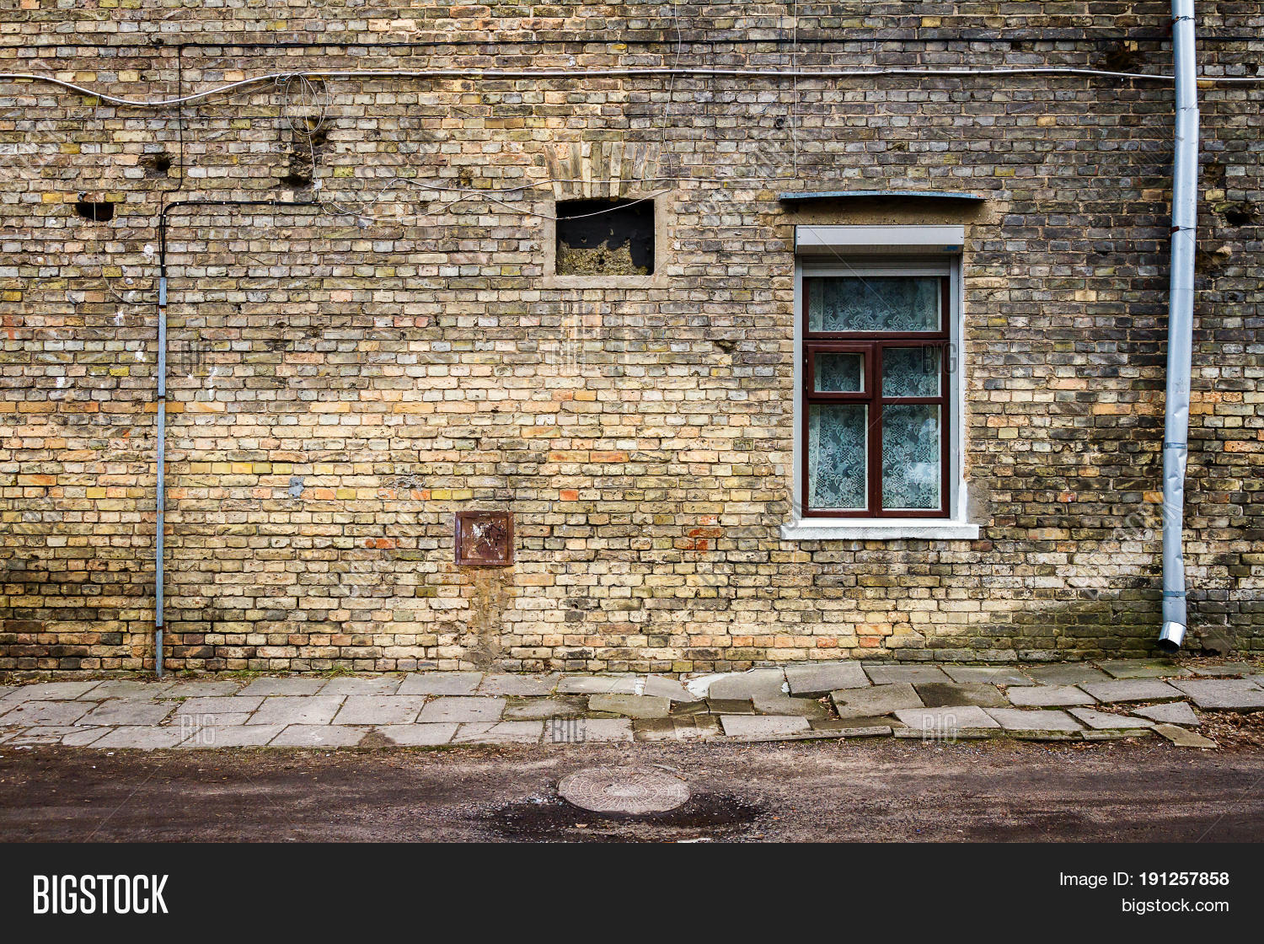Wall: (186, 245, 426, 660), (533, 307, 769, 657), (979, 228, 1146, 641)
